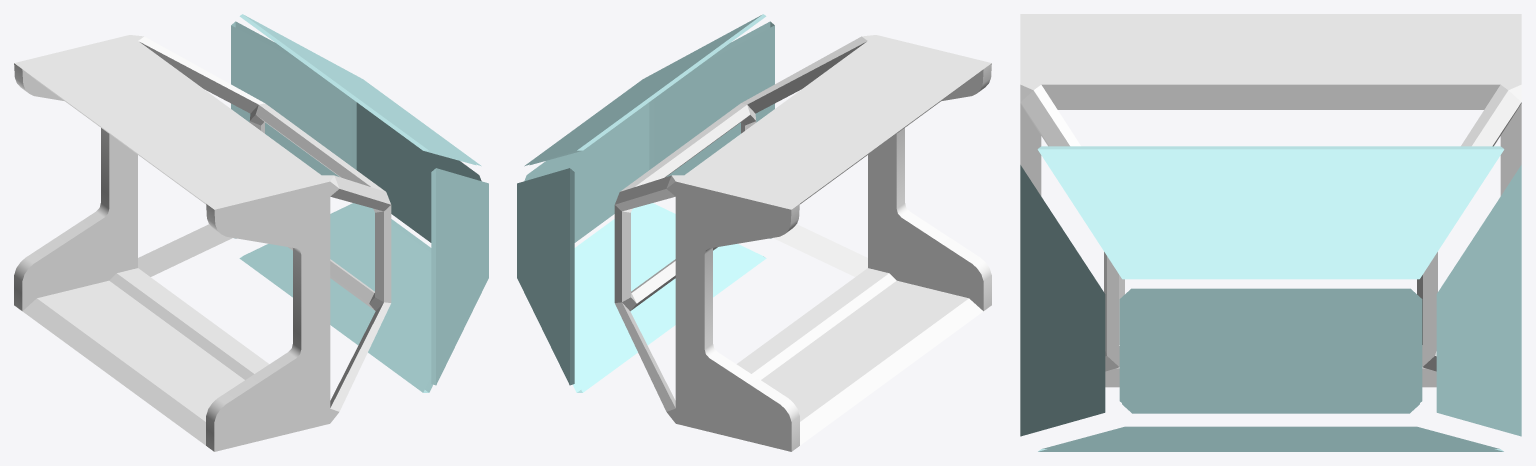
The model's file is Porthole_01_Long.glb.
The picture shows the model from 3 angles, left to right: view 1: azimuth 30°, elevation 25°; view 2: azimuth 150°, elevation 25°; view 3: azimuth 270°, elevation 25°; orthographic projection. The views are drawn at different scales.
Parts seen in each view (by area): view 1: Porthole_01_Long, Glass; view 2: Porthole_01_Long, Glass; view 3: Glass, Porthole_01_Long.
Part boxes in pixels (left/top/right/bottom): Porthole_01_Long: left=14, top=35, right=391, bottom=451; Glass: left=231, top=14, right=488, bottom=392; Porthole_01_Long: left=614, top=35, right=991, bottom=451; Glass: left=517, top=14, right=774, bottom=392; Glass: left=1020, top=146, right=1521, bottom=451; Porthole_01_Long: left=1020, top=14, right=1521, bottom=387.
Size of the model in its own units: 5.35 by 4 by 6.
